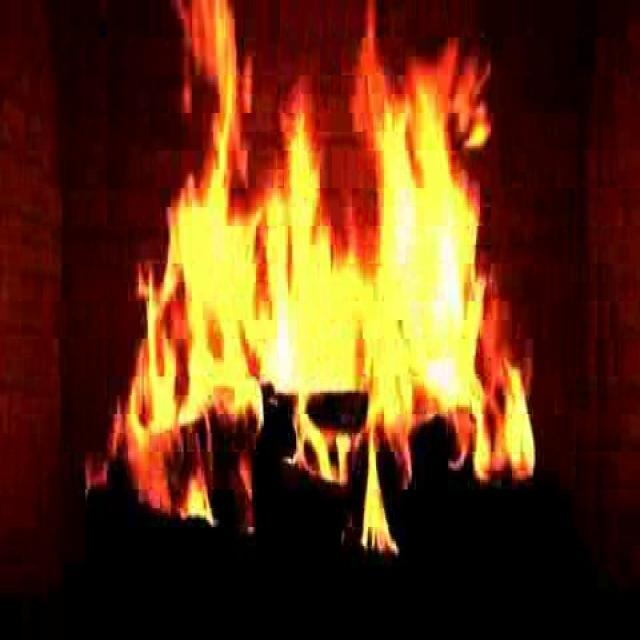Fire: (146, 40, 506, 498)
